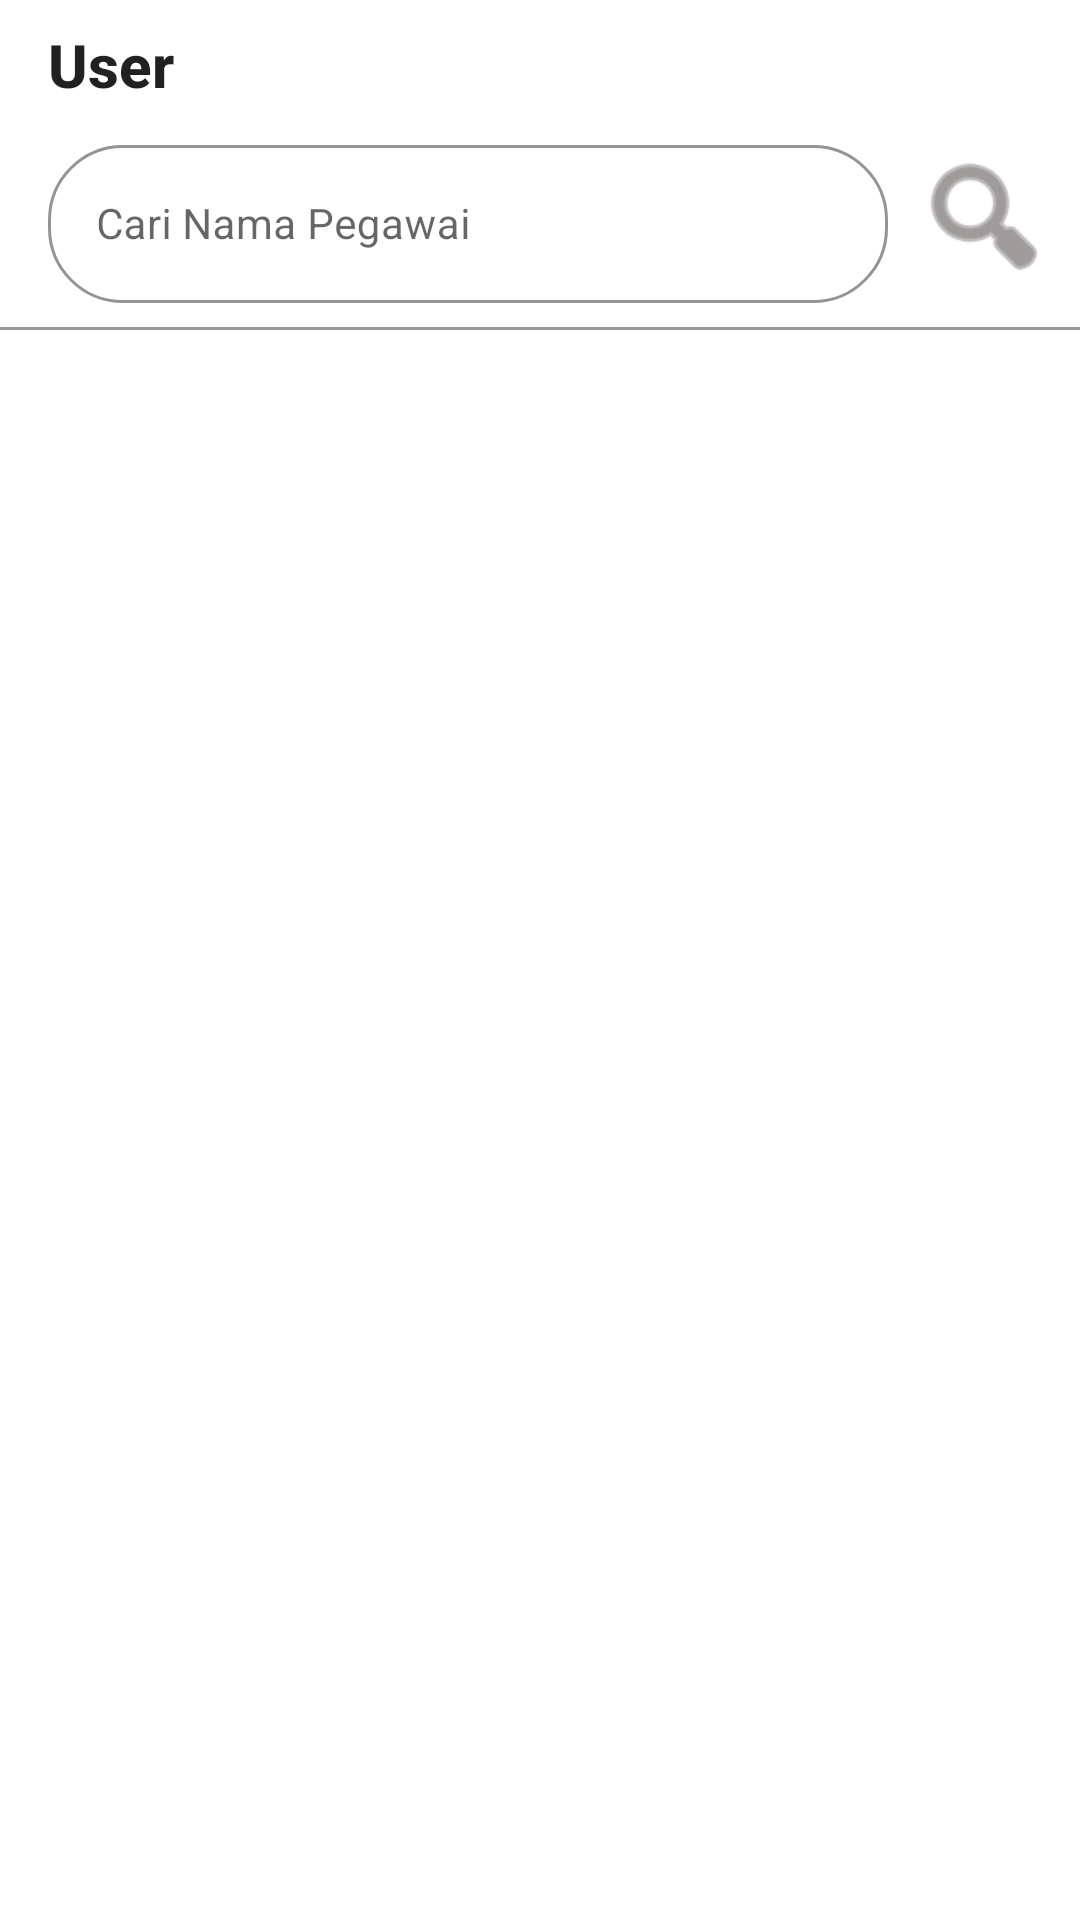

Where to tap for icons on this 1080*1920 app screen, as point (x, y):
search: point (984, 216)
